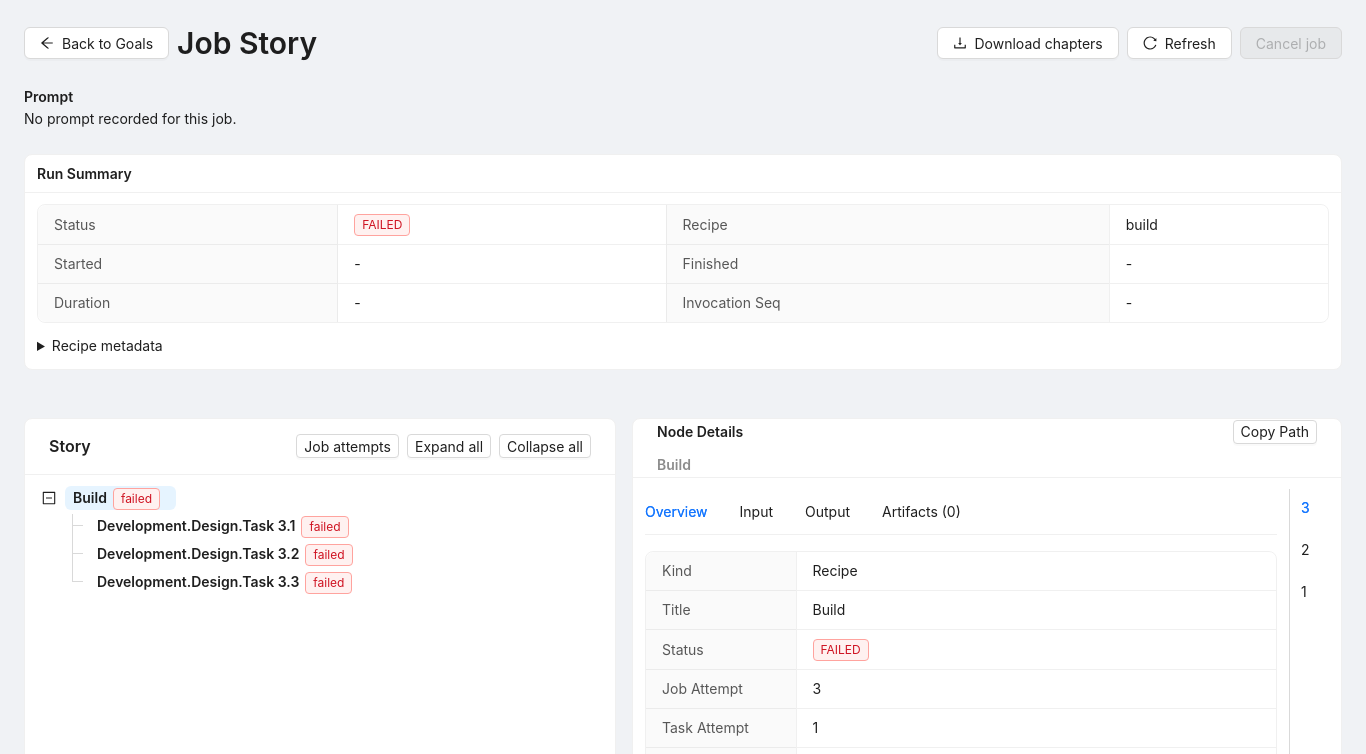
Scenario: job story context › does not invent failures for {"completion_status":"success"}
This screenshot has width=1366, height=754.
What coordinates should you click on to do the following:
click the text "Development.Design.Task 3.2"
I would click on:
 (198, 554)
Its box is [97,545,300,562].
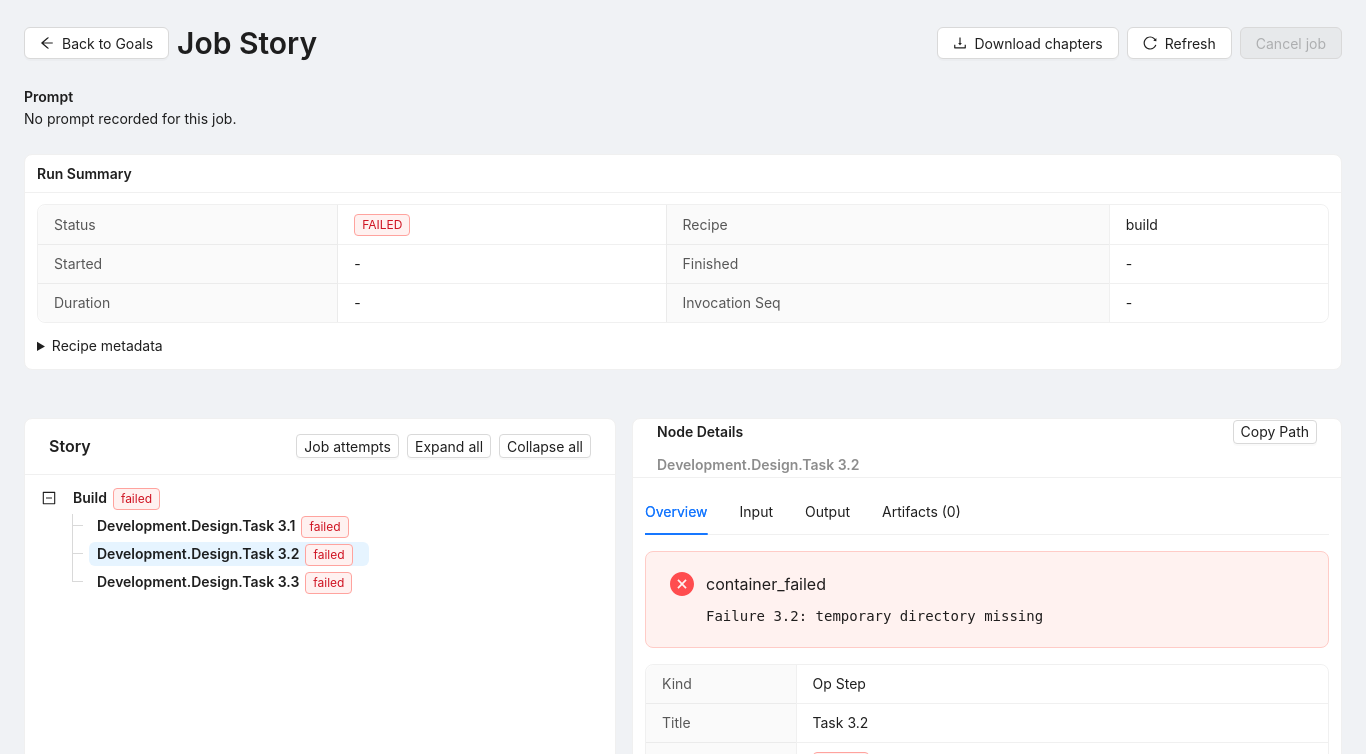
Result: the text "Failure 3.2: temporary directory missing" is shown at [706,608,1043,624]
